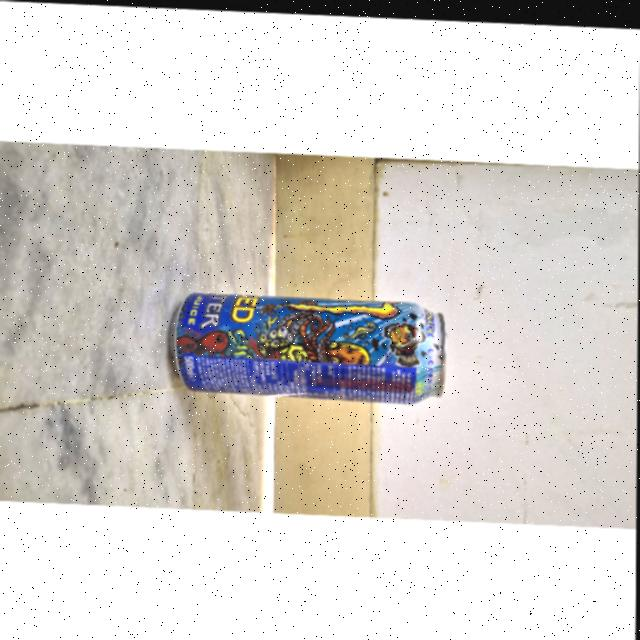Monster Aussie Lemonade: (168, 285, 446, 402)
